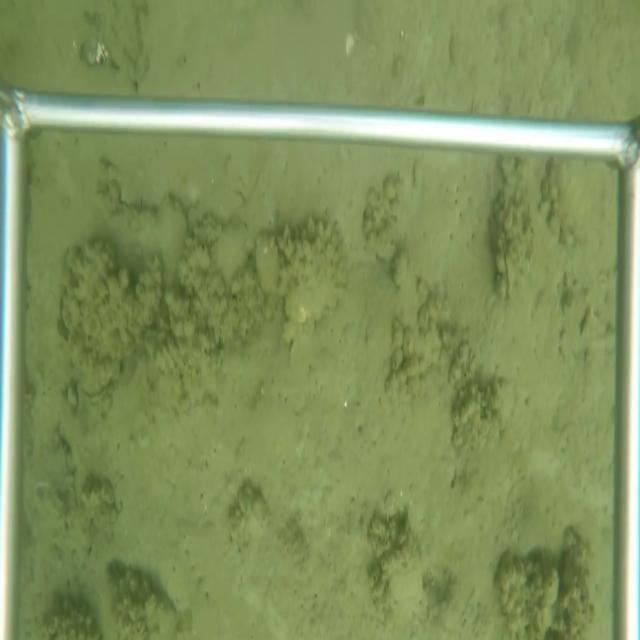Oyster-Closed: (76, 352, 122, 406)
Oyster-Indeterminate: (542, 164, 615, 245), (282, 247, 349, 322)
Oyster-Open: (53, 283, 74, 345)
